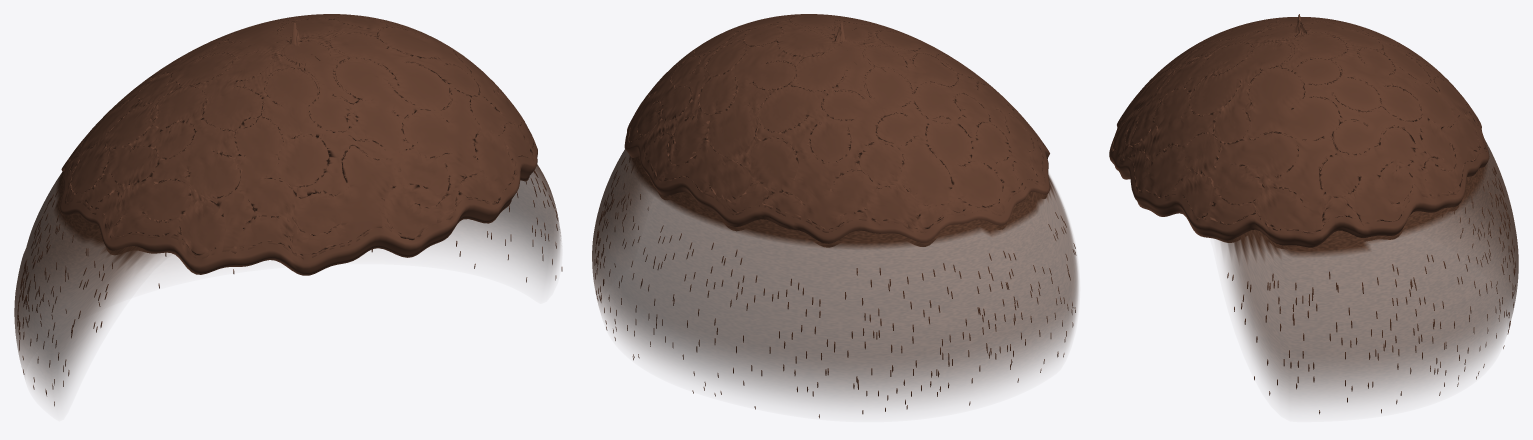
File: Masculine-curly-top-beanie251-hair.glb
The picture shows the model from 3 angles, left to right: view 1: azimuth 30°, elevation 25°; view 2: azimuth 150°, elevation 25°; view 3: azimuth 270°, elevation 25°; orthographic projection. The views are drawn at different scales.
Visible parts, largest first — view 1: 226 hair / Hair / sculpted curly crown251.001, 226 hair / Hair / clipped grain251.001, 226 hair / Hair / close cut strokes251.001; view 2: 226 hair / Hair / clipped grain251.001, 226 hair / Hair / sculpted curly crown251.001, 226 hair / Hair / close cut strokes251.001; view 3: 226 hair / Hair / sculpted curly crown251.001, 226 hair / Hair / clipped grain251.001, 226 hair / Hair / close cut strokes251.001.
Part boxes in pixels (x1,y1,x2,y2): 226 hair / Hair / sculpted curly crown251.001: (59,14,537,275); 226 hair / Hair / clipped grain251.001: (14,164,560,401); 226 hair / Hair / close cut strokes251.001: (17,170,562,406); 226 hair / Hair / clipped grain251.001: (592,149,1078,406); 226 hair / Hair / sculpted curly crown251.001: (624,14,1050,247); 226 hair / Hair / close cut strokes251.001: (595,157,1076,418); 226 hair / Hair / sculpted curly crown251.001: (1109,14,1489,248); 226 hair / Hair / clipped grain251.001: (1218,140,1518,405); 226 hair / Hair / close cut strokes251.001: (1227,167,1515,414).
Size of the model in its own units: 0.9812 by 0.6603 by 0.7771.
3 materials, 1 textured.
